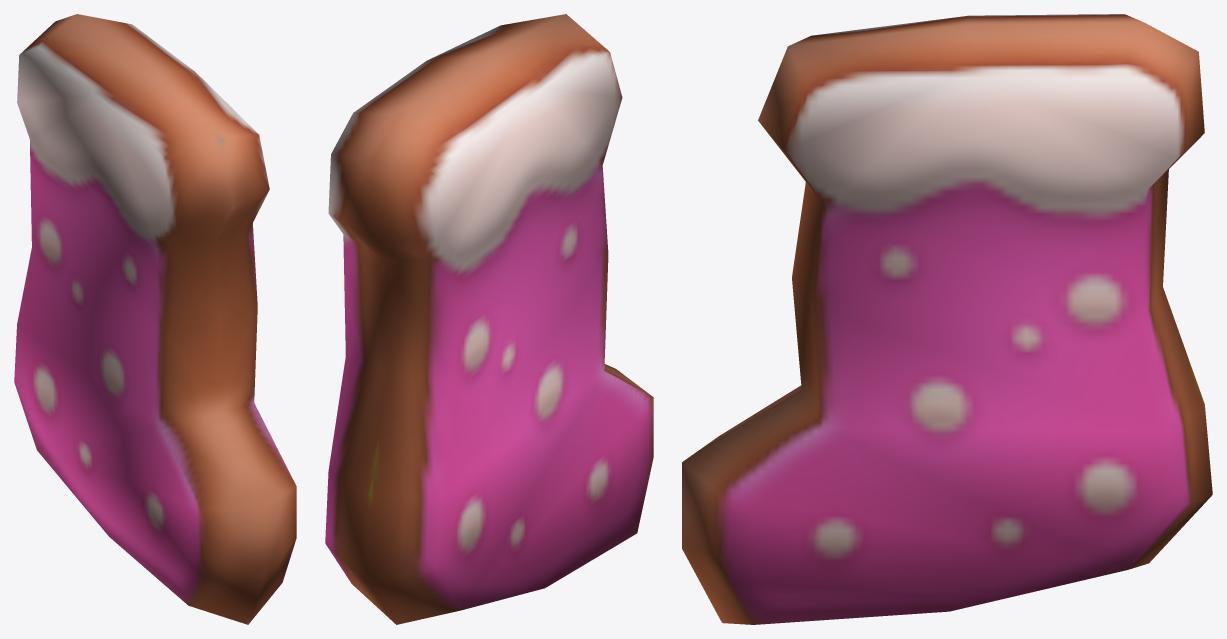
Rendered from scenes_candy_tools06.FBX.
3 renders of one model, left to right at view 1: azimuth 30°, elevation 25°; view 2: azimuth 150°, elevation 25°; view 3: azimuth 270°, elevation 25°, orthographic. The views are drawn at different scales.
Parts seen in each view (by area): view 1: scenes_candy_tools06; view 2: scenes_candy_tools06; view 3: scenes_candy_tools06.
Part boxes in pixels (x1,y1,x2,y2): scenes_candy_tools06: (14, 14, 296, 624); scenes_candy_tools06: (325, 14, 653, 624); scenes_candy_tools06: (682, 14, 1212, 624).
Bounding box in the file's own units: 17.73 × 87.43 × 70.05.
